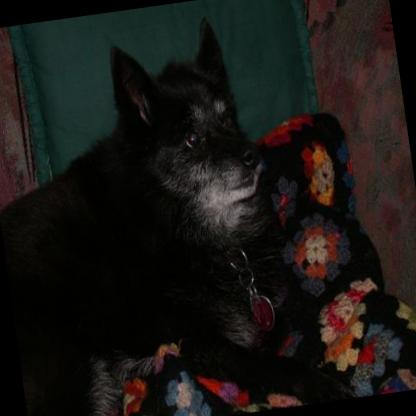schipperke: (0, 0, 353, 416)
